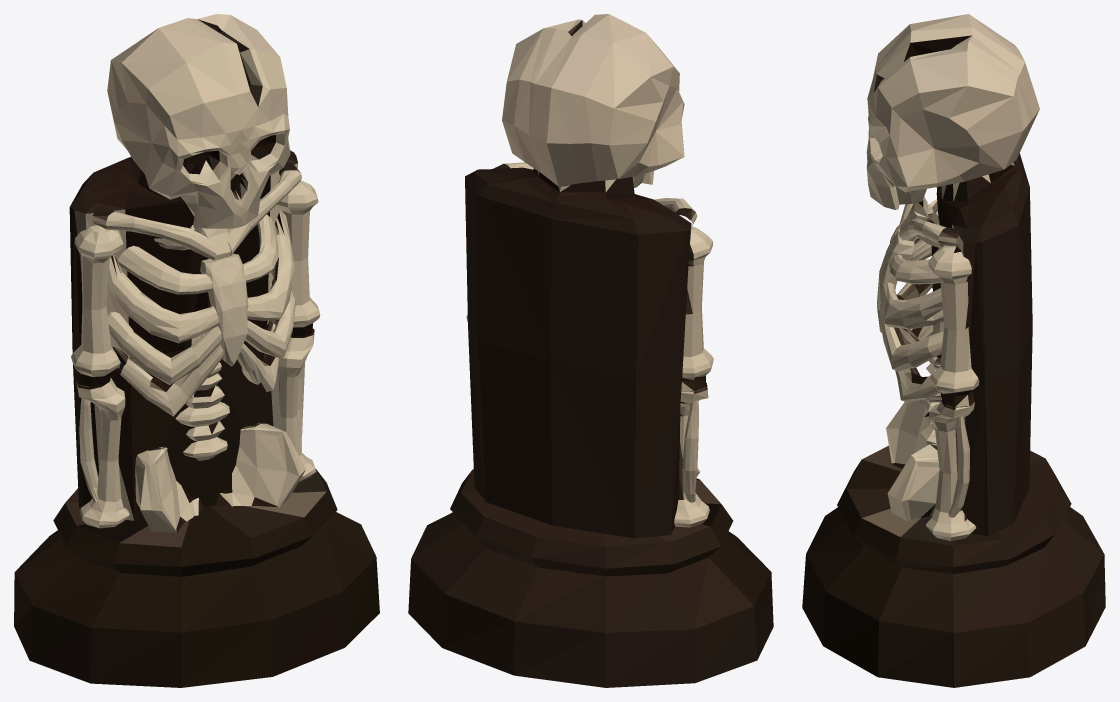
The model's file is squelette.glb.
3 views of the same model, side by side, from view 1: azimuth 30°, elevation 25°; view 2: azimuth 150°, elevation 25°; view 3: azimuth 270°, elevation 25° (orthographic). The views are drawn at different scales.
Parts seen in each view (by area): view 1: mesh_node; view 2: mesh_node; view 3: mesh_node.
Boxes of the visible parts, left/top/right/bottom form: mesh_node: left=14, top=14, right=379, bottom=687; mesh_node: left=408, top=14, right=773, bottom=687; mesh_node: left=802, top=14, right=1105, bottom=687.
Size of the model in its own units: 0.5878 by 1 by 0.4734.
